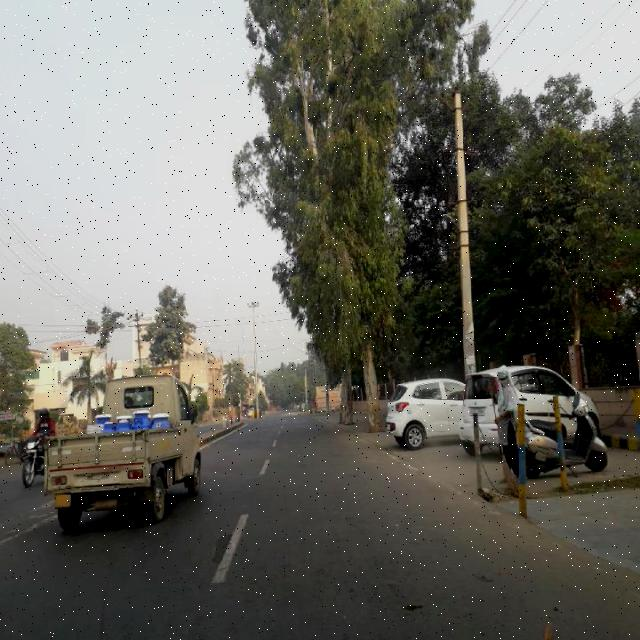D44: (411, 461, 473, 498)
